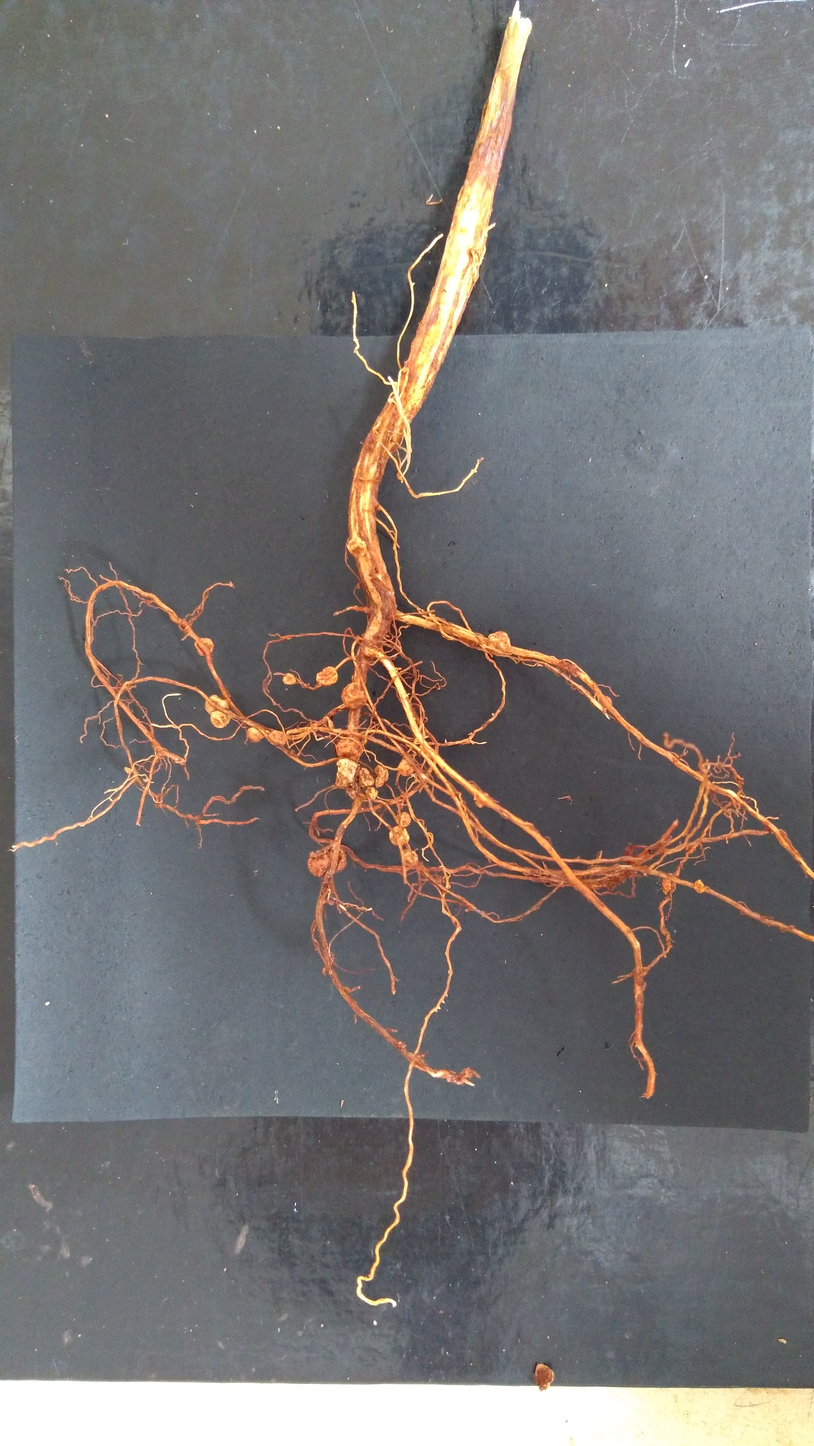nodule: (307, 844, 347, 878), (335, 757, 362, 800), (341, 682, 369, 710), (335, 736, 363, 761), (359, 767, 379, 800), (487, 632, 512, 657), (204, 694, 230, 716), (389, 825, 410, 847), (346, 536, 367, 557), (316, 666, 338, 686), (210, 709, 233, 728), (374, 764, 390, 789), (193, 637, 214, 656), (397, 756, 416, 777), (246, 727, 270, 743), (400, 848, 419, 868), (267, 729, 289, 746), (662, 873, 677, 894), (396, 811, 411, 828), (474, 792, 489, 809), (362, 645, 375, 659), (282, 673, 297, 685), (693, 879, 705, 894), (601, 696, 613, 707), (308, 722, 319, 734), (289, 750, 298, 758), (375, 503, 382, 511), (356, 581, 361, 589), (431, 613, 435, 618)
